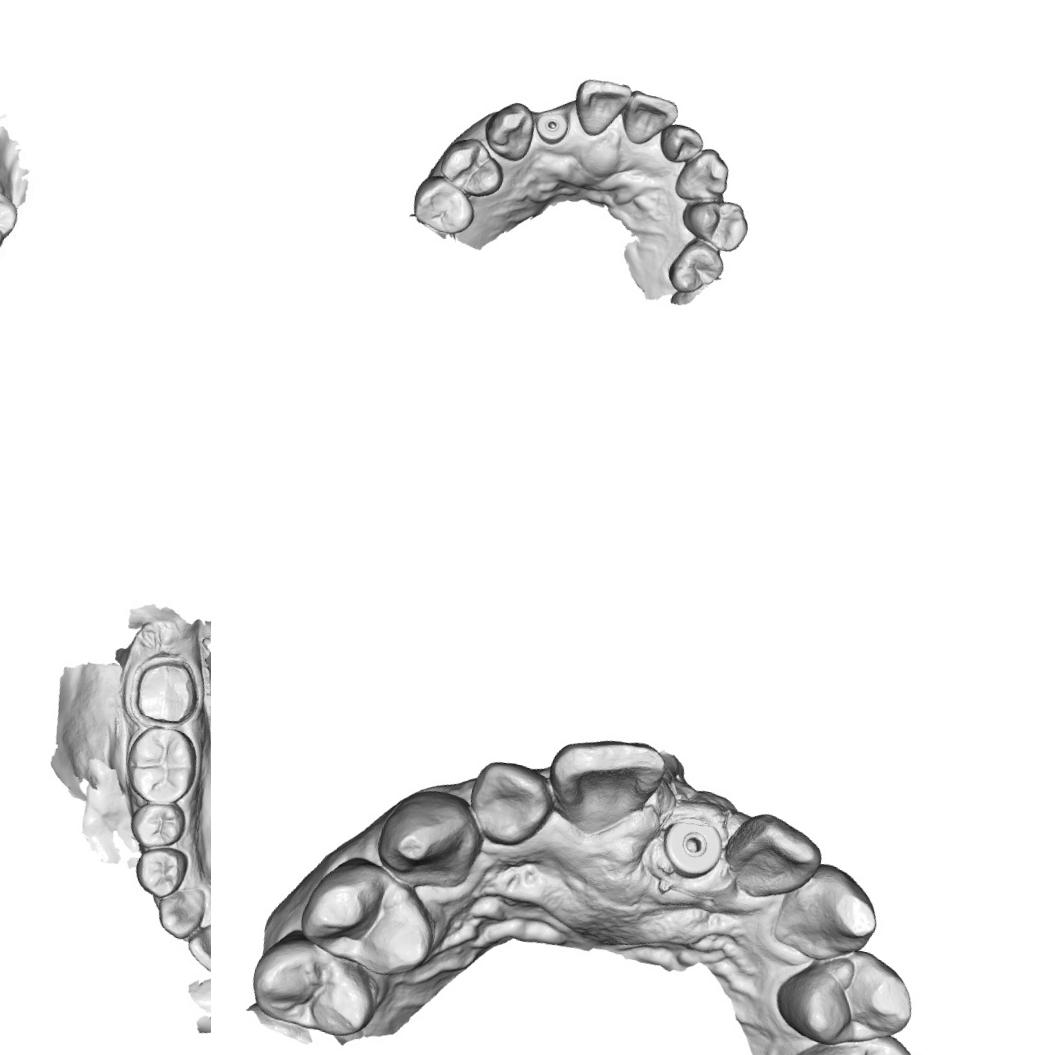canine: (766, 853, 889, 974), (368, 780, 488, 897), (478, 94, 540, 166), (672, 142, 734, 210), (151, 880, 210, 944)
crown: (124, 648, 207, 733)
implant: (655, 810, 730, 884), (531, 105, 572, 148)
incisor: (539, 725, 670, 847), (718, 805, 828, 908), (460, 754, 558, 854), (566, 72, 634, 144), (616, 87, 682, 152), (653, 119, 707, 168), (182, 913, 211, 976)
molar: (117, 720, 204, 812), (0, 166, 25, 269)
premolar: (292, 846, 446, 984), (766, 935, 921, 1055), (242, 926, 384, 1044), (781, 1014, 925, 1055), (432, 131, 511, 202), (406, 170, 481, 240), (675, 190, 754, 254), (662, 236, 729, 302), (124, 796, 191, 856), (130, 840, 192, 903)
